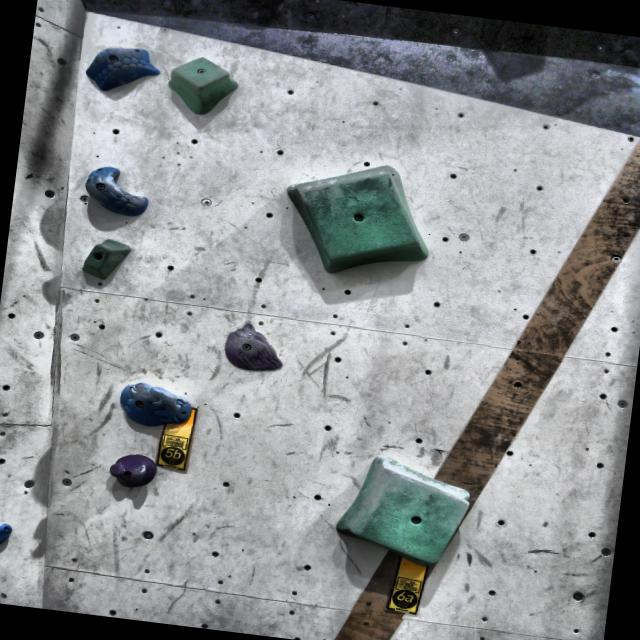Hold: (275, 150, 433, 284), (329, 447, 480, 571), (164, 51, 238, 126), (76, 36, 162, 100), (77, 159, 156, 222), (116, 376, 196, 430), (216, 319, 286, 376), (77, 234, 136, 282), (96, 447, 150, 489), (0, 515, 17, 560)
